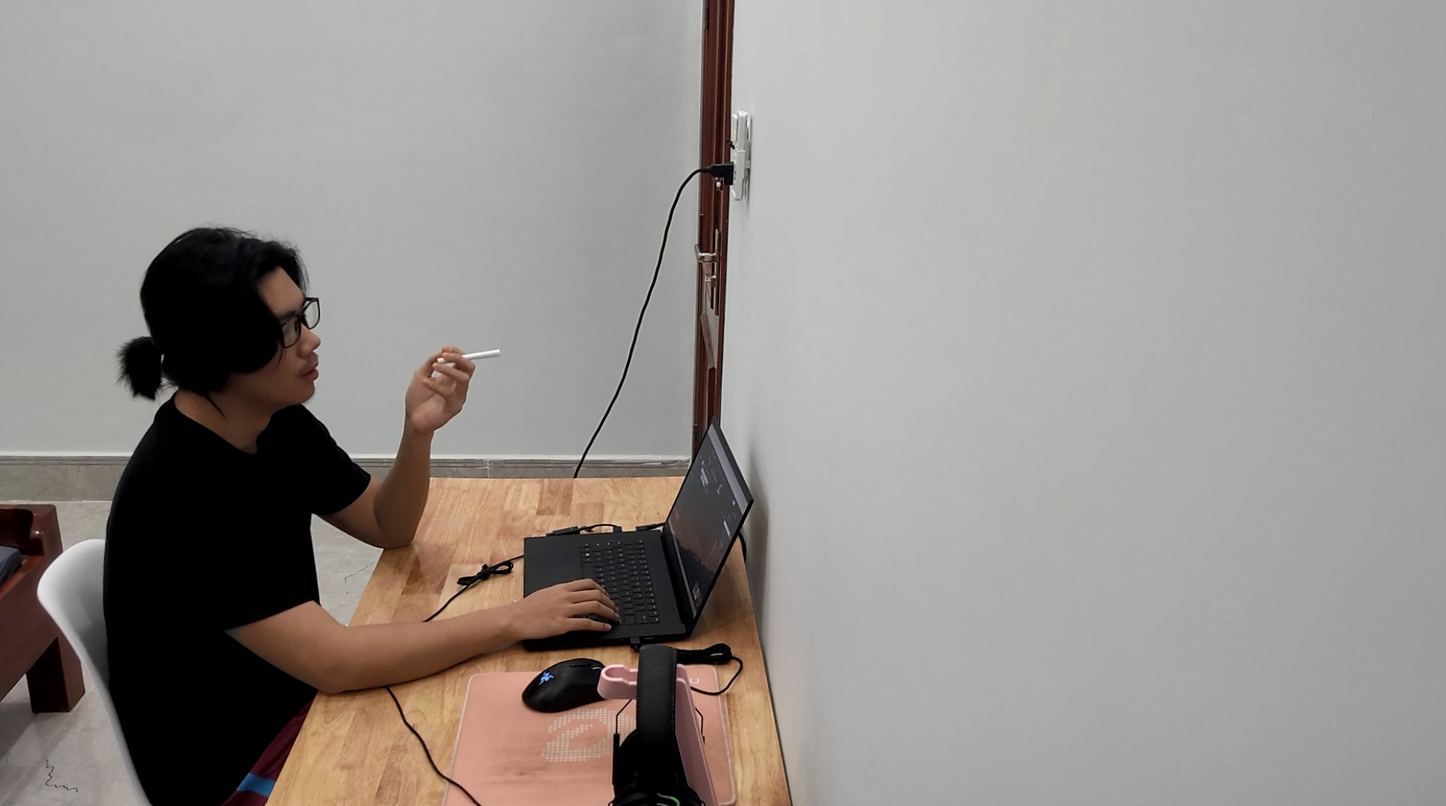cigarette: (435, 344, 509, 371)
person: (76, 205, 485, 806)
